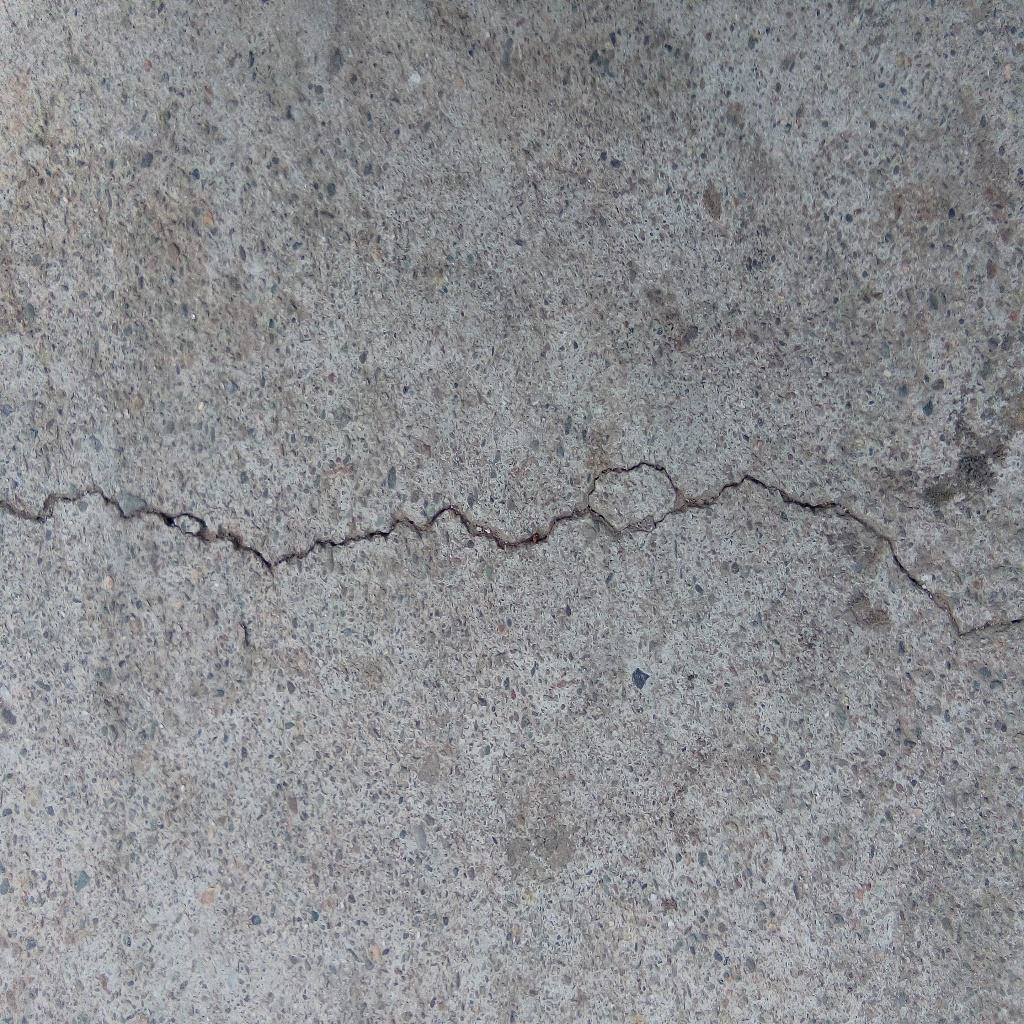Crack: (1, 461, 1024, 637)
